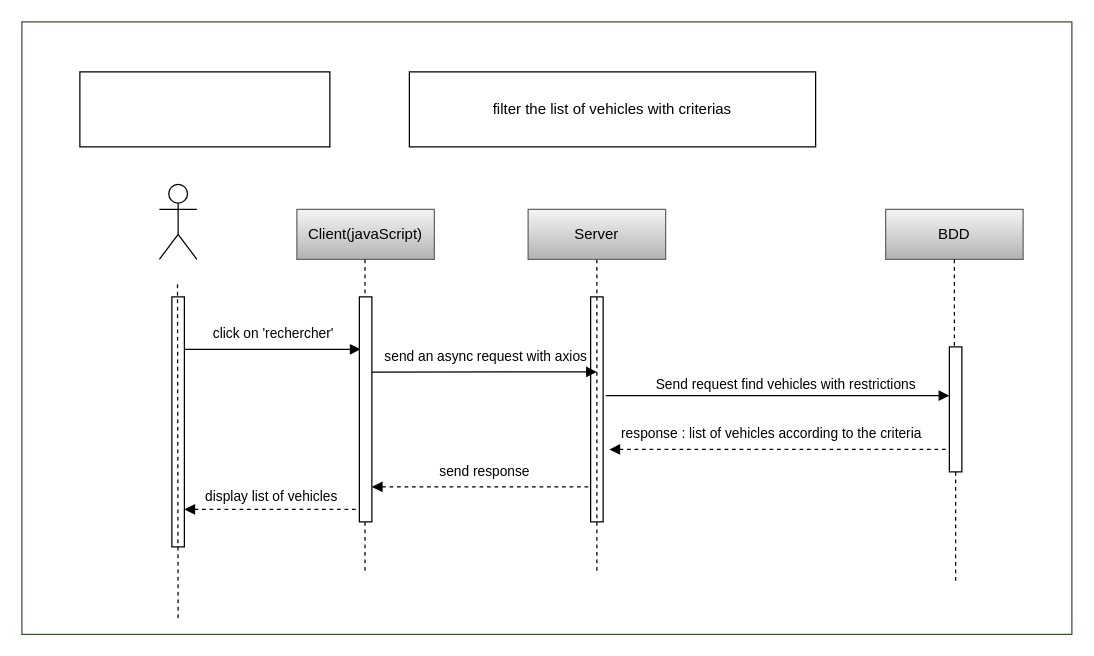
Some shapes in this 1094 by 656 pixel diagram are drawn without their labels. The centre of each missing label's shape, as x and y in pixels:
"sequence diagram" goes at (x=204, y=109).
"Visitor" goes at (x=177, y=221).
